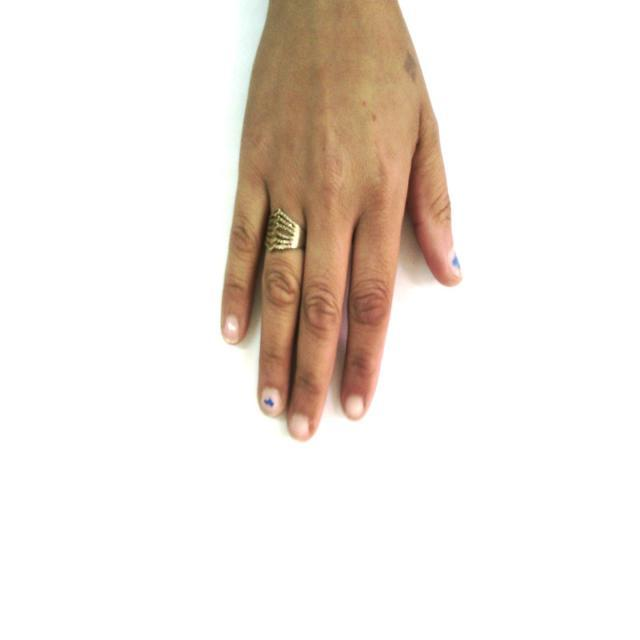Fingernail: (262, 388, 283, 415), (290, 415, 310, 439), (448, 247, 463, 277), (345, 395, 363, 418), (224, 317, 240, 342)
